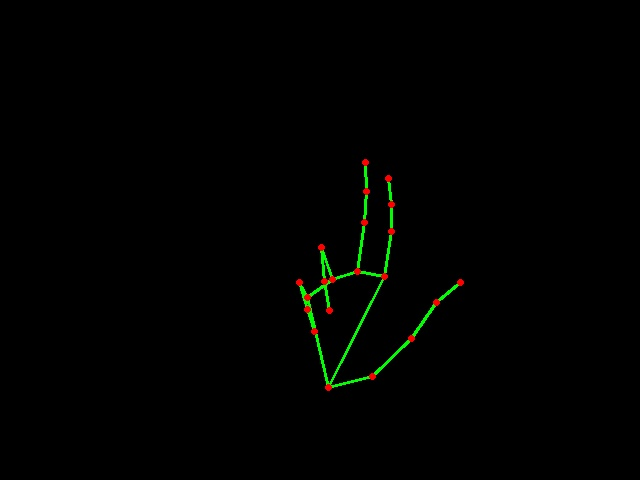forward: (287, 146, 470, 402)
